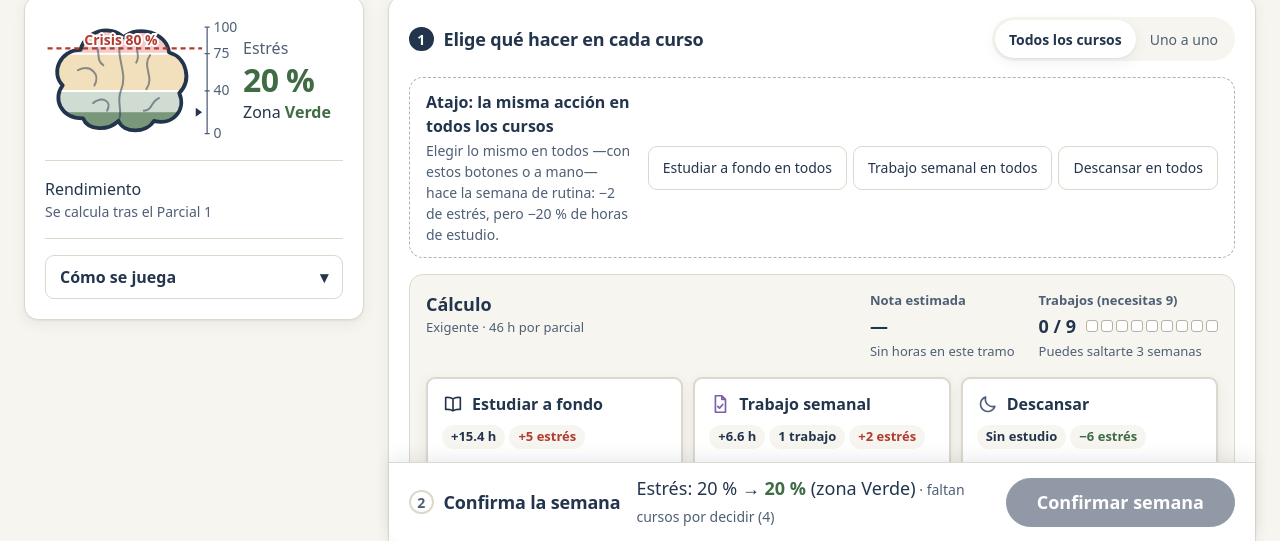
Test: interfaz › no deja confirmar hasta decidir todas las asignaturas
Expected: the button "Confirmar semana" is disabled, [1006,478,1235,526]
Click the button "Estudiar a fondo +15.4 h +5 estrés" at (555, 425), box [426,377,683,473]
(page scrolled)
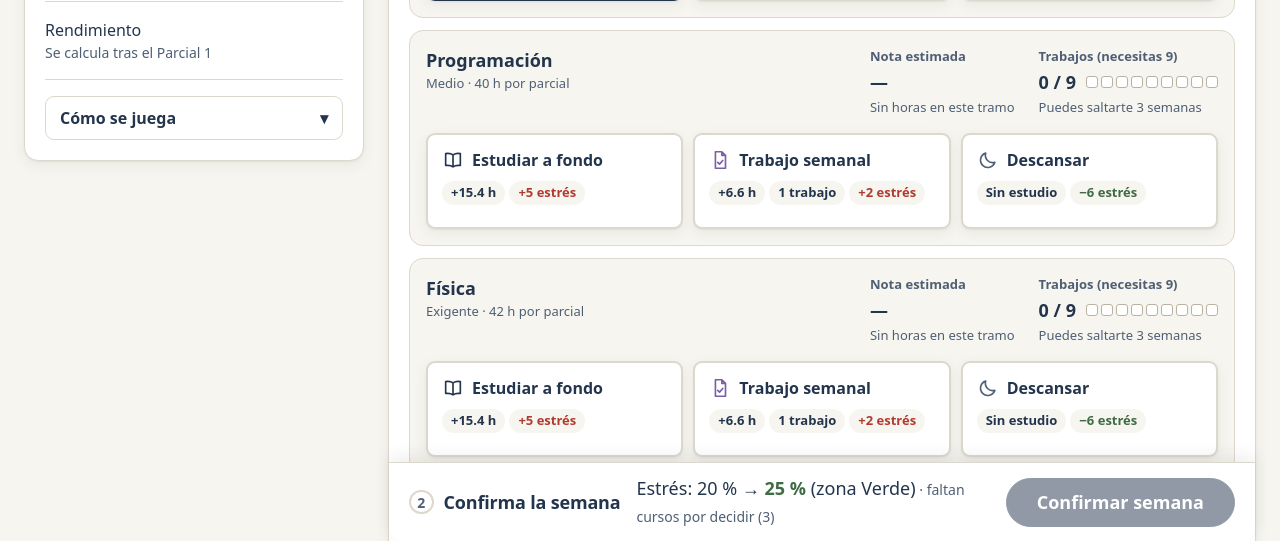
Click the button "Estudiar a fondo +15.4 h +5 estrés" below "Medio" at (555, 181), box [426,133,683,229]
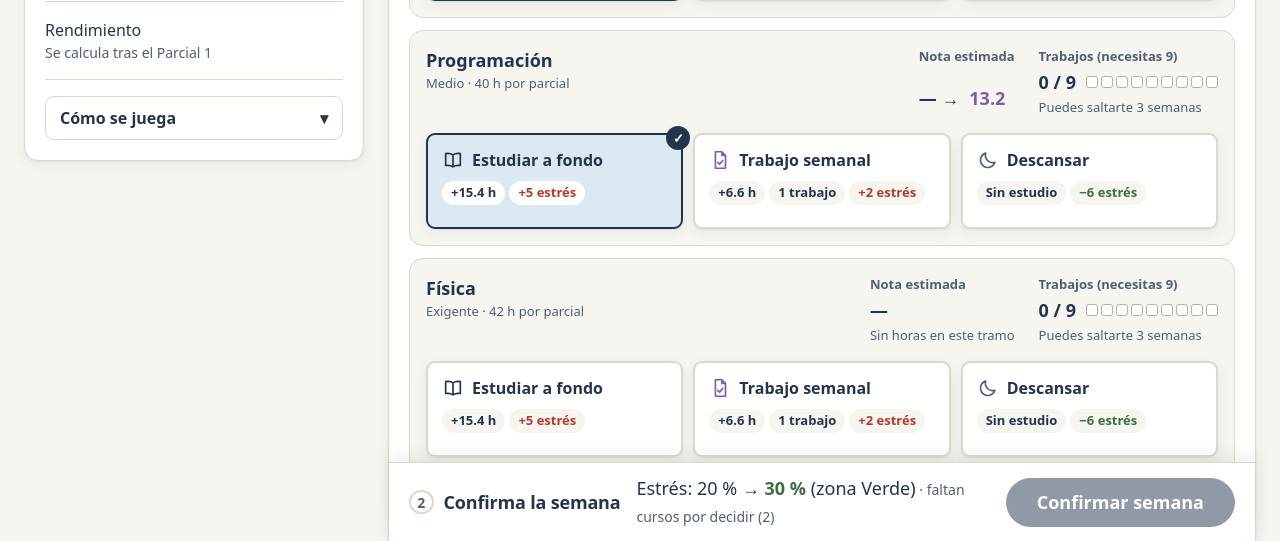
Click the button "Estudiar a fondo +15.4 h +5 estrés" at (555, 409), box [426,361,683,457]
(page scrolled)
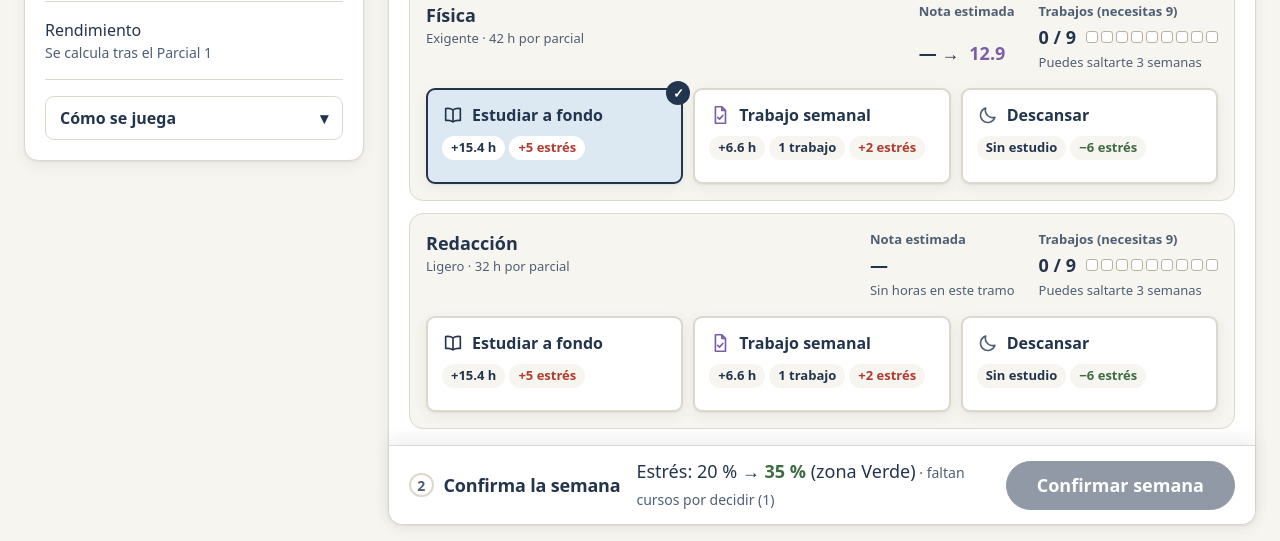
Expected: the button "Confirmar semana" is disabled, [1006,460,1235,510]
Expected: the text "· faltan cursos por decidir (1)" is shown, [636,463,964,509]
Click the button "Descansar Sin estudio −6 estrés" below "Sin horas en este tramo" at (1089, 364), box [961,316,1218,412]
(page scrolled)
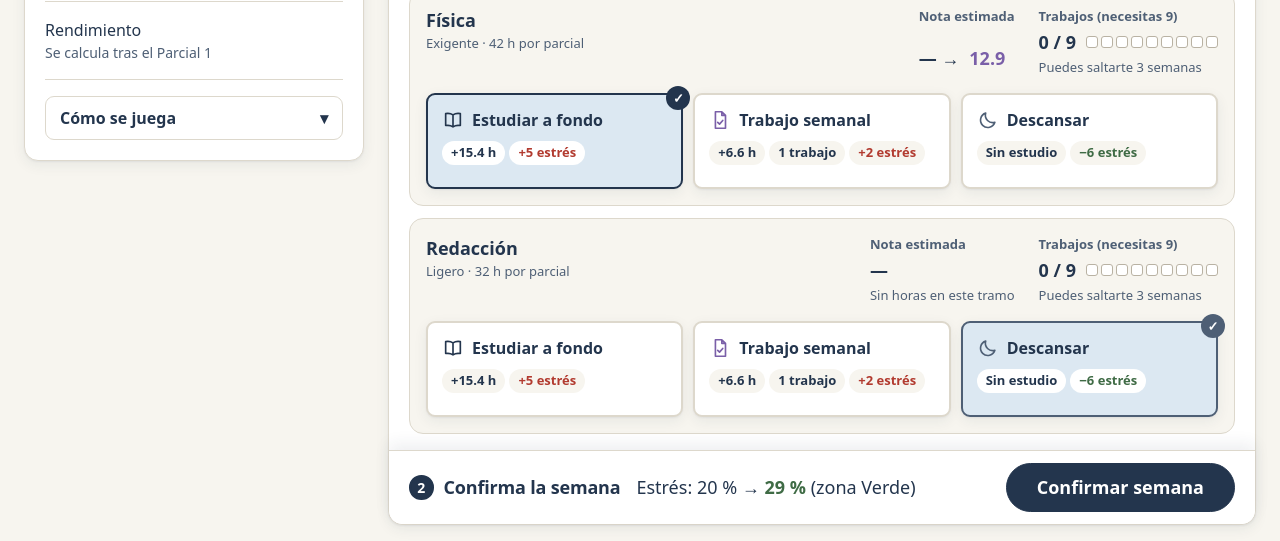
Expected: the button "Confirmar semana" is enabled, [1006,463,1235,512]
Expected: the text "Estrés: 20 % → 29 % (zona Verde)" is shown, [636,475,916,499]
